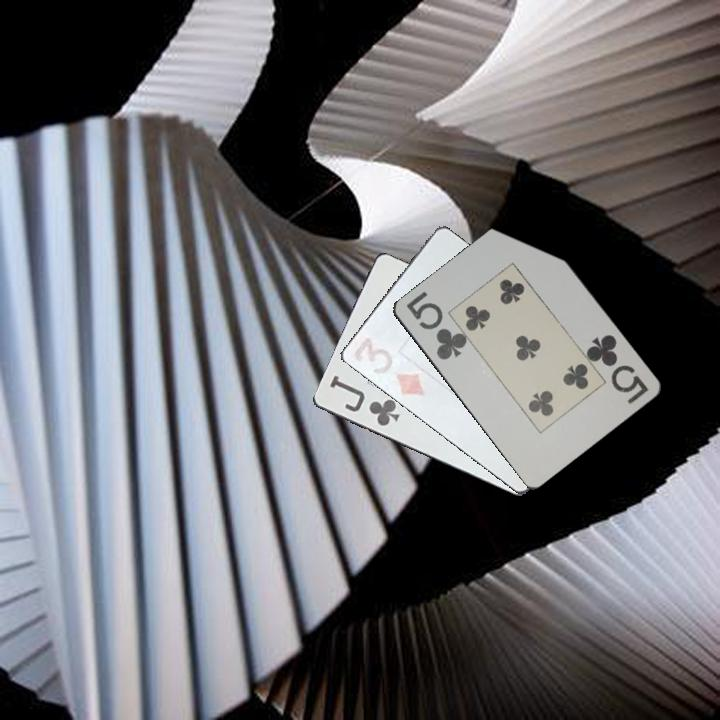3d: (349, 330, 427, 400)
5c: (583, 331, 651, 407), (402, 287, 469, 363)
Jc: (325, 372, 403, 429)
